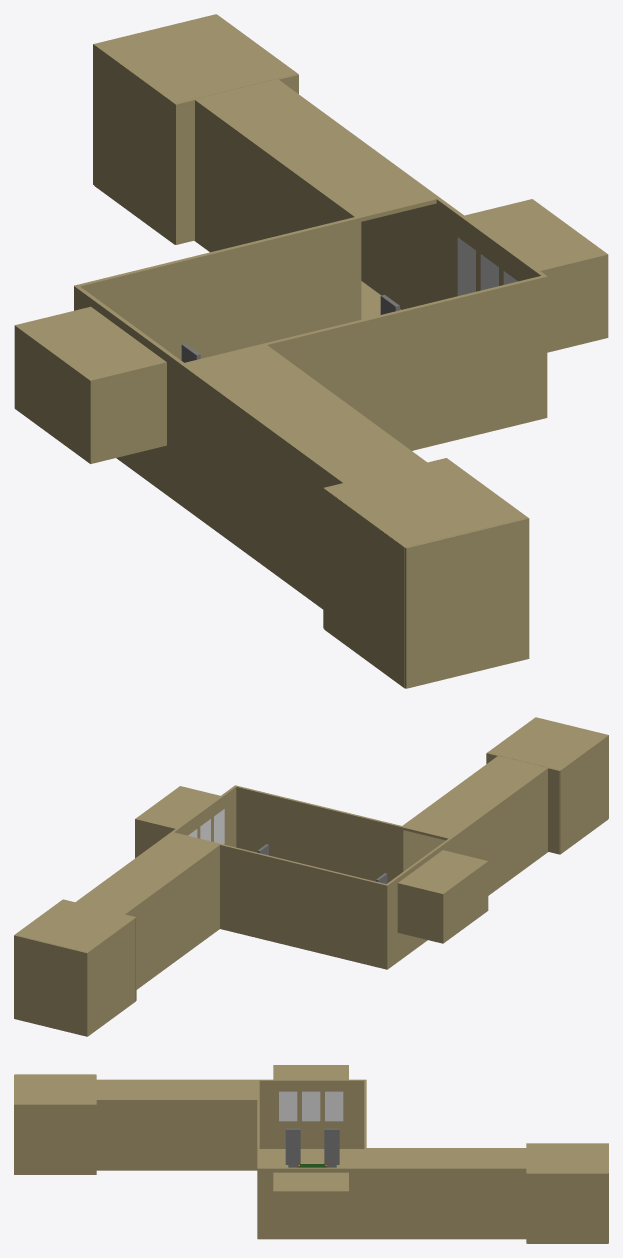
File: LowPavlovVR_DetacenberMap.fbx
3 renders of one model, top to bottom at view 1: azimuth 30°, elevation 25°; view 2: azimuth 150°, elevation 25°; view 3: azimuth 270°, elevation 25°, orthographic. The views are drawn at different scales.
Visible parts, largest first — view 1: Cube.020, Cube.005; view 2: Cube.020; view 3: Cube.020, Cube.024, Cube.023, Cube, Cube.001, Cube.002.
Boxes of the visible parts, box(x1,y1,x2,y2) form: Cube.020: box(14, 14, 608, 688); Cube.005: box(457, 237, 475, 295); Cube.020: box(14, 717, 608, 1036); Cube.020: box(14, 1065, 608, 1243); Cube.024: box(324, 1128, 339, 1167); Cube.023: box(285, 1128, 300, 1167); Cube: box(279, 1091, 297, 1121); Cube.001: box(302, 1091, 320, 1121); Cube.002: box(325, 1091, 343, 1121).
Size of the model in its own units: 2600 by 679 by 5174.
